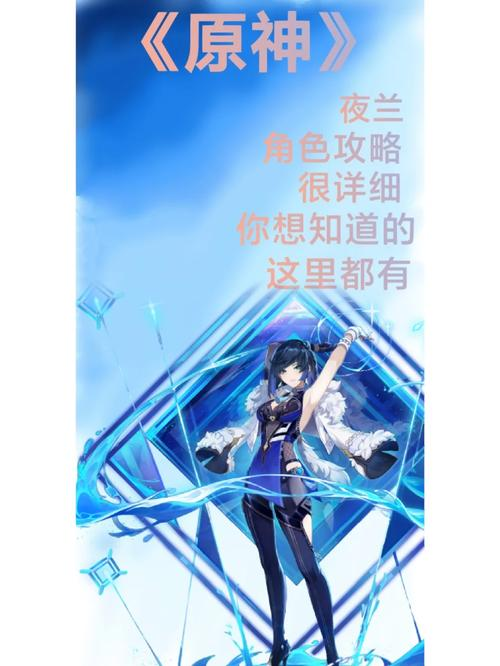夜兰: (242, 319, 391, 666)
